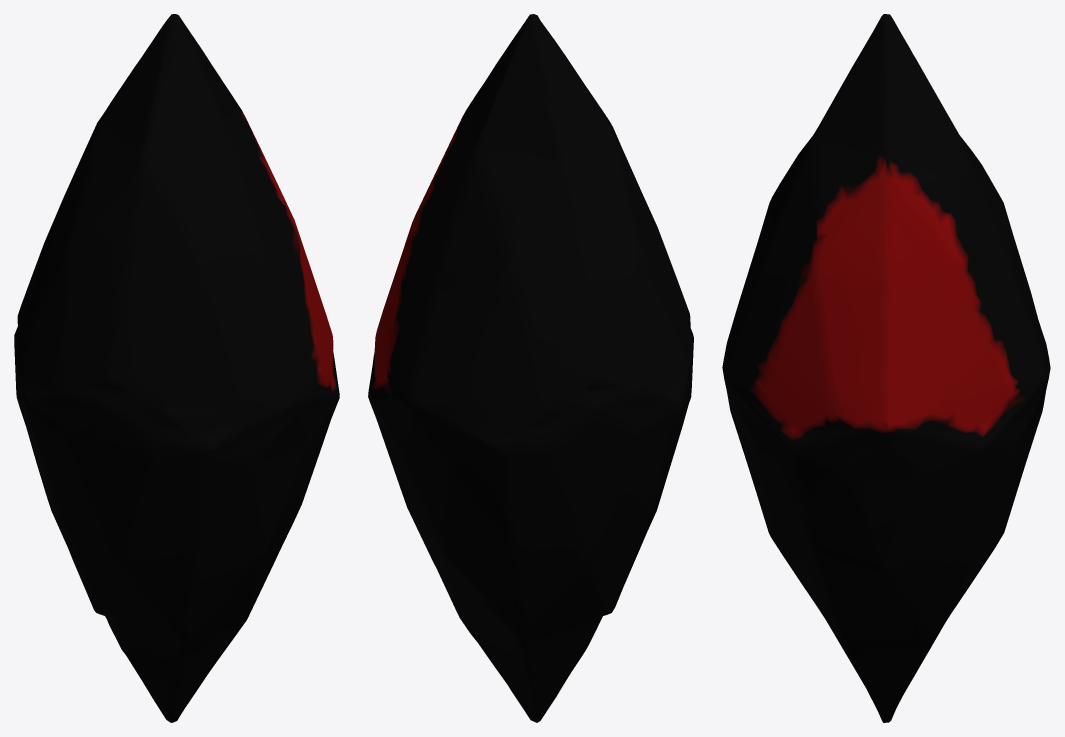
File: gen3d-obsidian-shard-lod0.glb
The picture shows the model from 3 angles, left to right: view 1: azimuth 30°, elevation 25°; view 2: azimuth 150°, elevation 25°; view 3: azimuth 270°, elevation 25°; orthographic projection.
Visible parts, largest first — view 1: part_0; view 2: part_0; view 3: part_0.
Part boxes in pixels (bbox=[...]): part_0: bbox=[14, 14, 339, 722]; part_0: bbox=[368, 14, 693, 722]; part_0: bbox=[722, 14, 1050, 722].
Size of the model in its own units: 0.4411 by 0.9998 by 0.4194.
